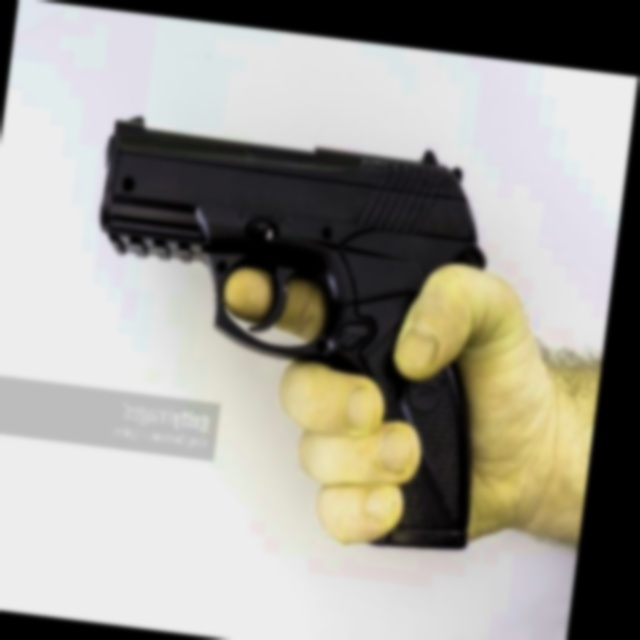gun: (56, 105, 526, 562)
